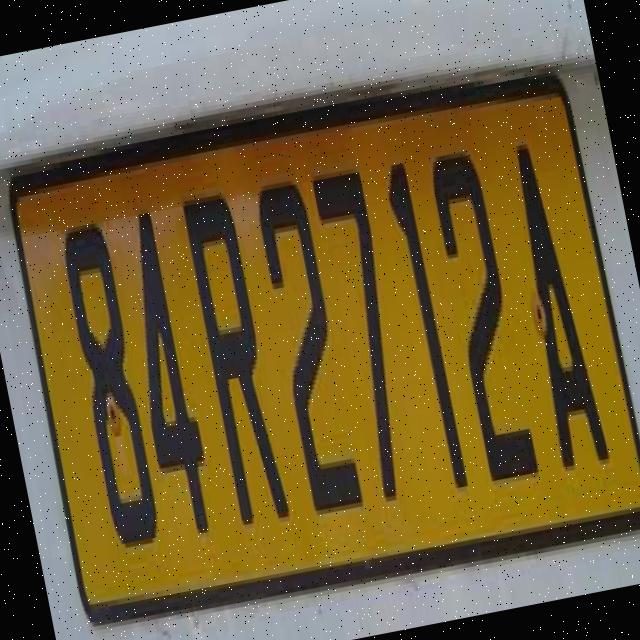Autre: (5, 70, 640, 621)
